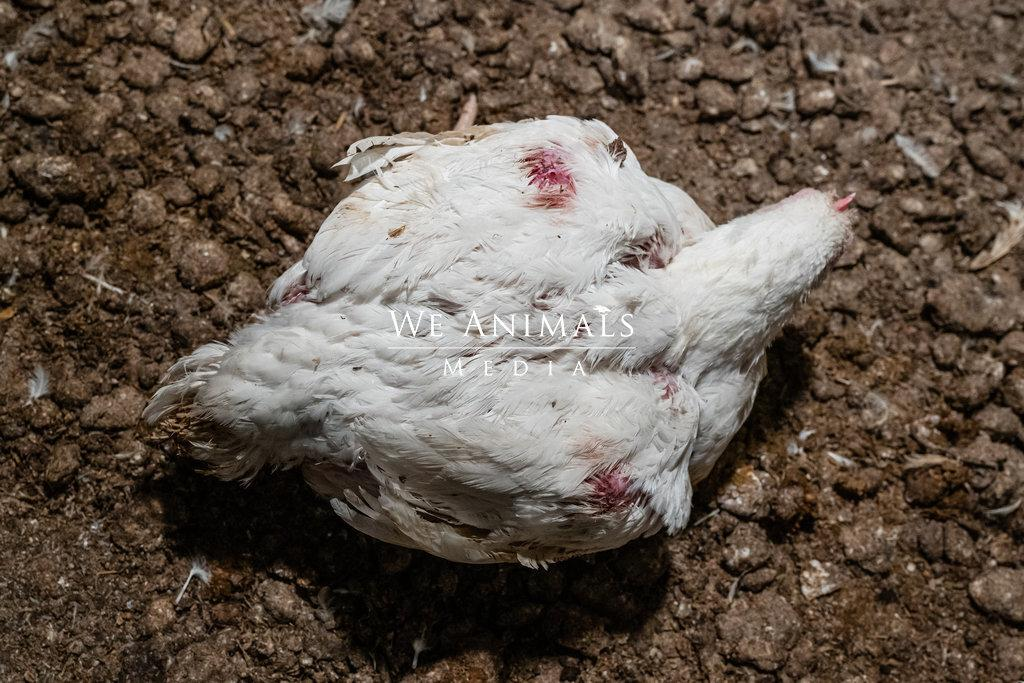AbNormal: (82, 83, 862, 593)
